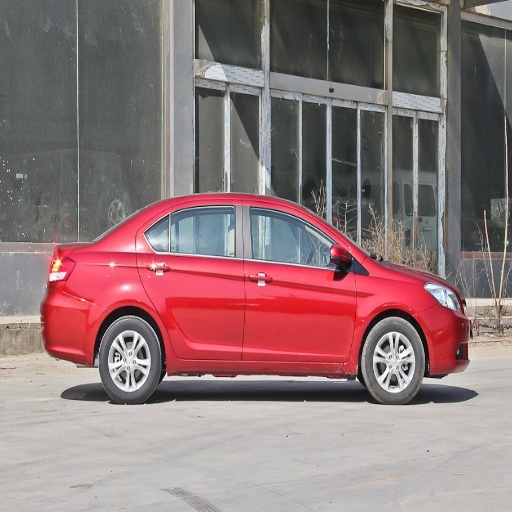back_right_door: (140, 202, 243, 359)
front_right_door: (243, 203, 356, 366)
